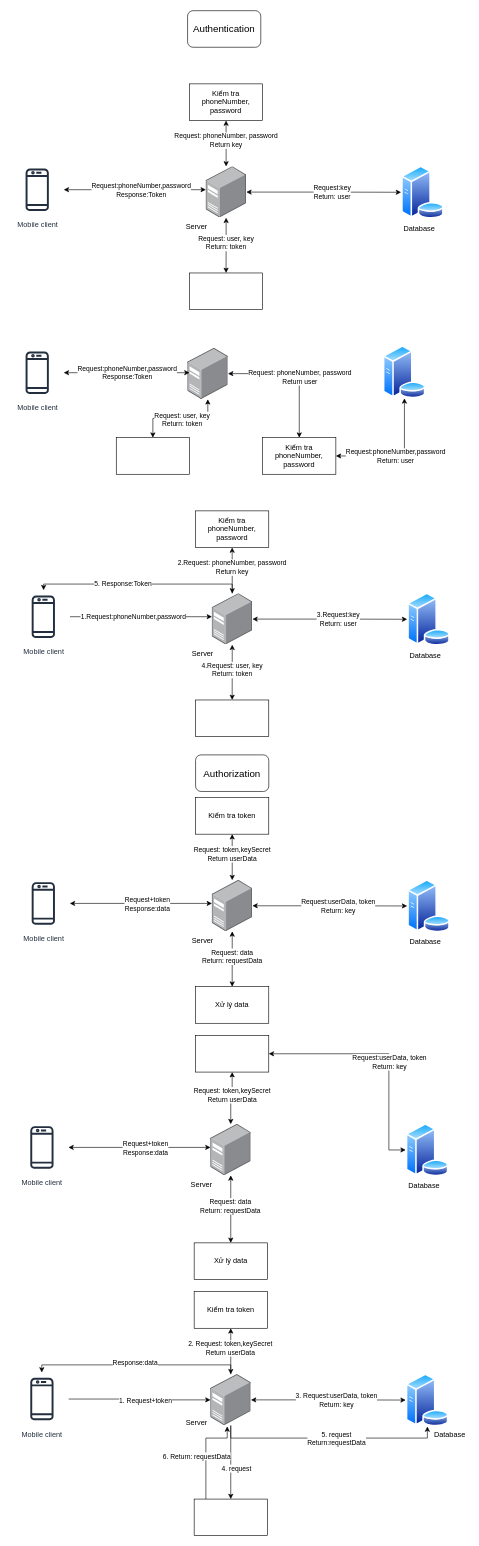
Image size: 479x1546. Some labels were removed from this diagram. The centre of each missing label's shape, as x and y in pixels:
"Kiểm tra token, xác định quyền" goes at point (232, 1053).
"Tạo token với data user" goes at point (226, 291).
"Tạo token với data user và key" goes at point (152, 455).
"Tạo token với data user và key secret" goes at point (232, 718).
"Xử lý yêu cầu" goes at point (230, 1517).
